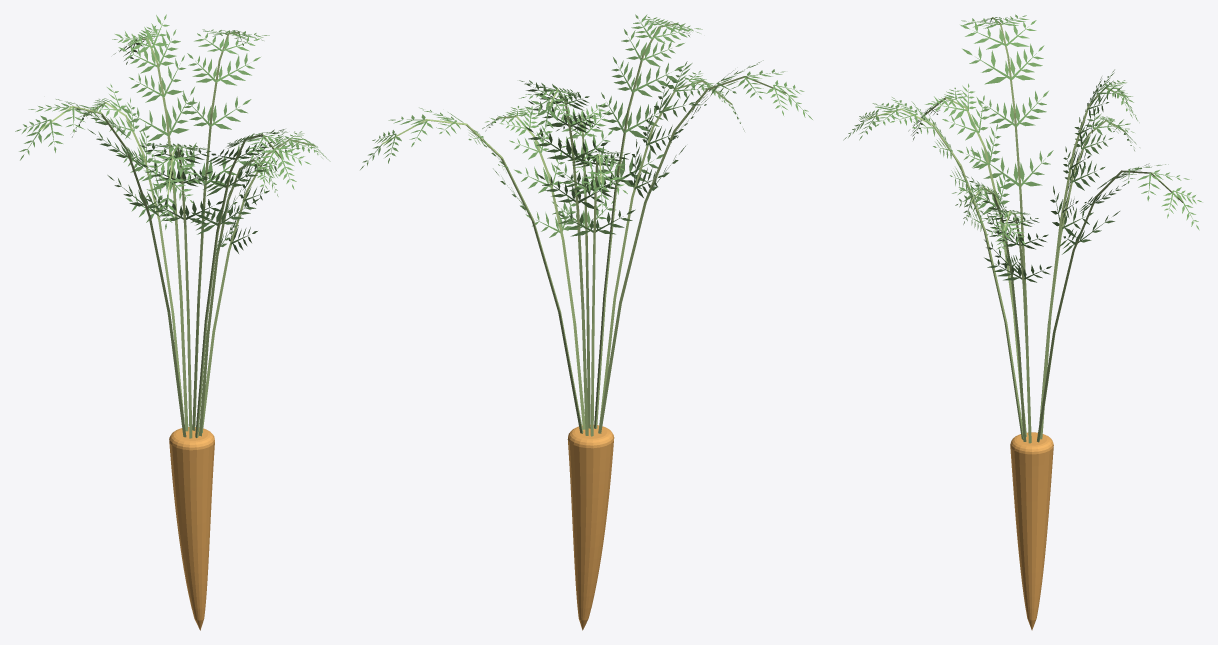
Rendered from carrot_harvest_v17.glb.
The picture shows the model from 3 angles, left to right: view 1: azimuth 30°, elevation 25°; view 2: azimuth 150°, elevation 25°; view 3: azimuth 270°, elevation 25°; orthographic projection. The views are drawn at different scales.
Parts seen in each view (by area): view 1: plant; view 2: plant; view 3: plant.
Boxes of the visible parts, bbox=[...] form: plant: bbox=[15, 14, 330, 630]; plant: bbox=[360, 14, 812, 630]; plant: bbox=[843, 14, 1202, 630].
Bounding box in the file's own units: 0.3171 × 0.5138 × 0.3067.
Materials: 1 (1 with a texture image).
